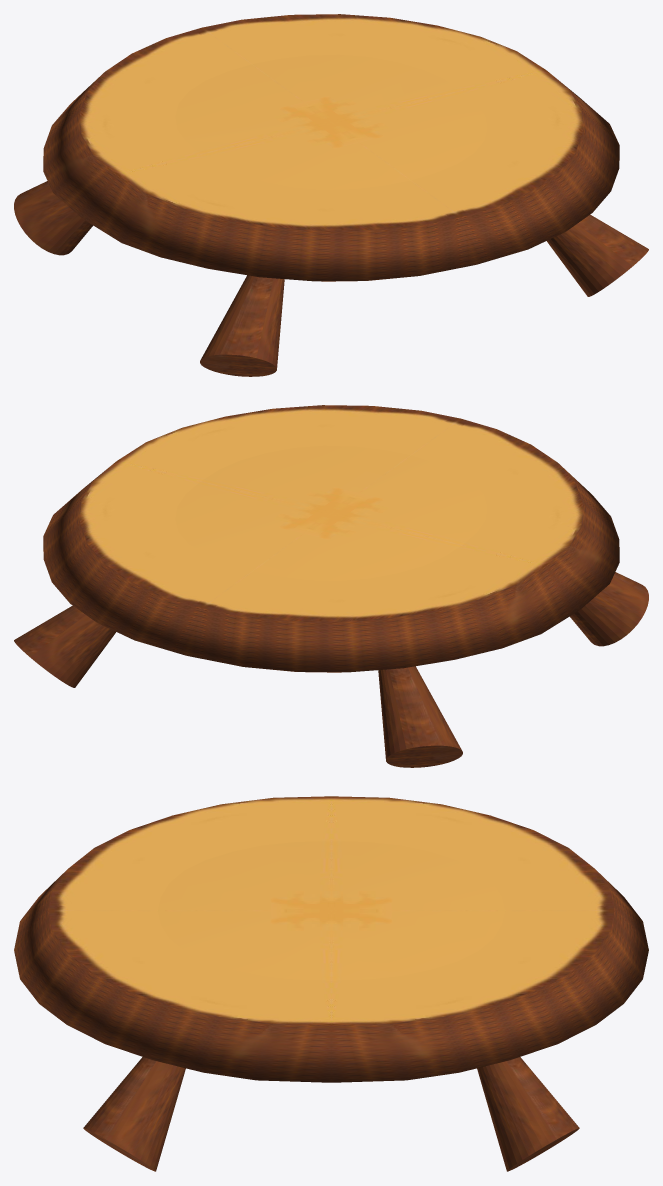
The model's file is table_wood.fbx.
3 views of the same model, one above another, from view 1: azimuth 30°, elevation 25°; view 2: azimuth 150°, elevation 25°; view 3: azimuth 270°, elevation 25° (orthographic). The views are drawn at different scales.
Visible parts, largest first — view 1: table; view 2: table; view 3: table.
Part boxes in pixels (box(x1,y1,x2,y2)): table: box(14, 14, 648, 376); table: box(14, 405, 648, 767); table: box(14, 796, 648, 1171).
Bounding box in the file's own units: 40.39 × 11.58 × 40.88.
